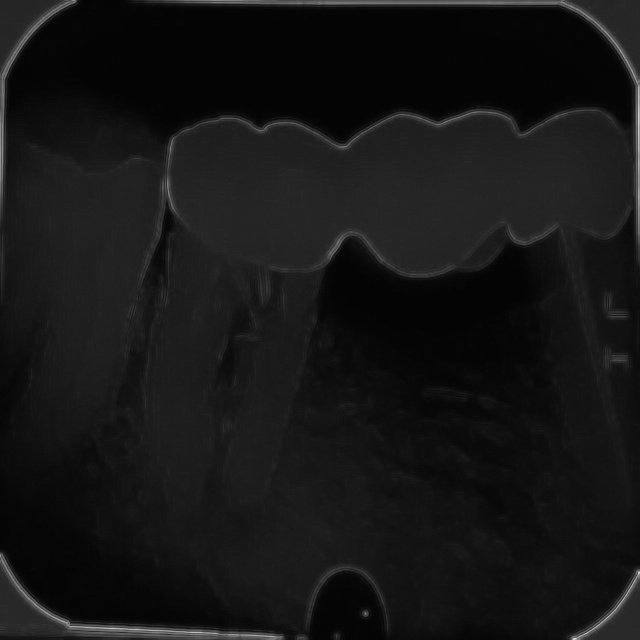Class 2- incomplete endodontic treatment: (162, 182, 340, 536)
